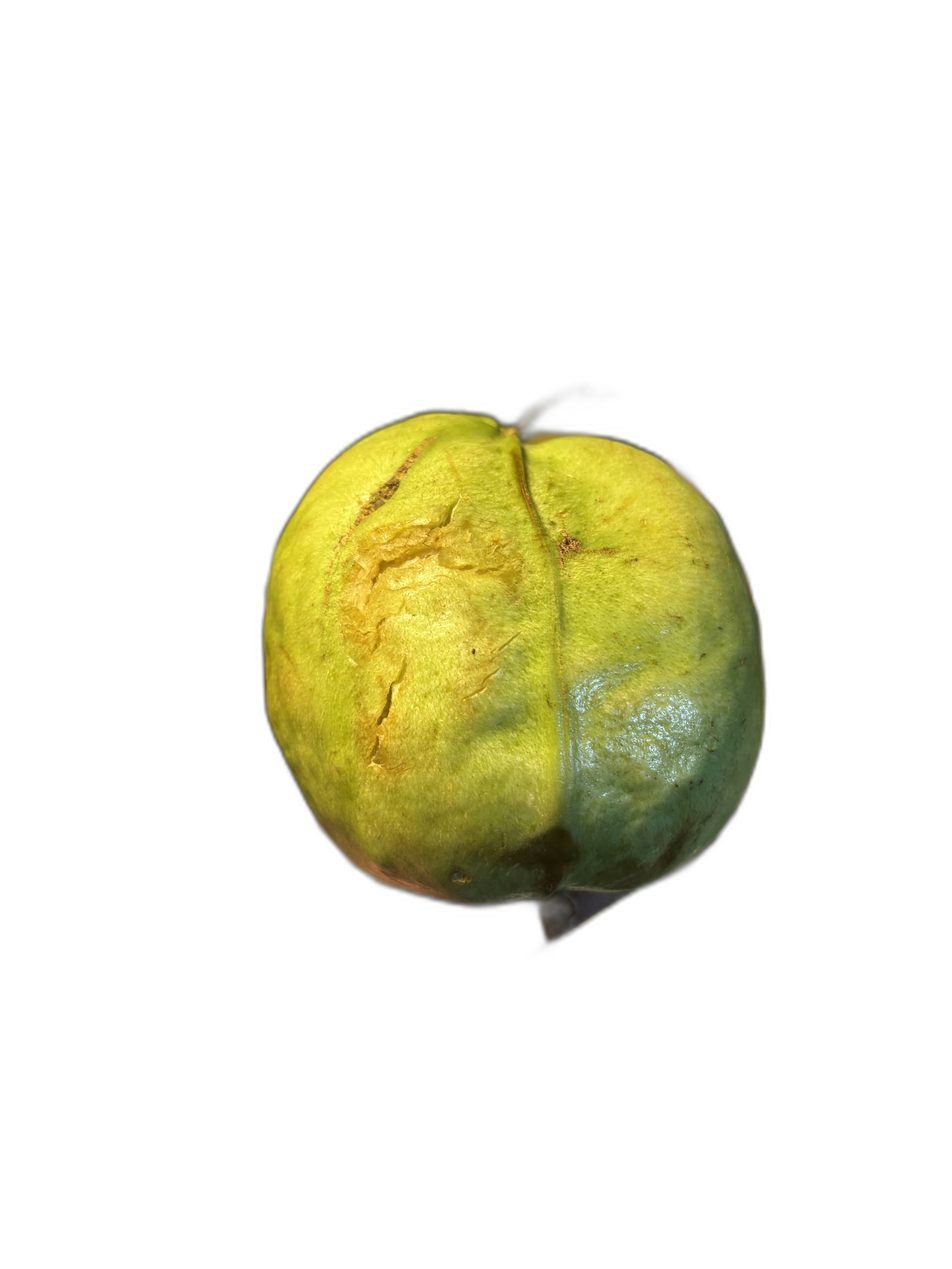guava: (247, 229, 882, 1012)
